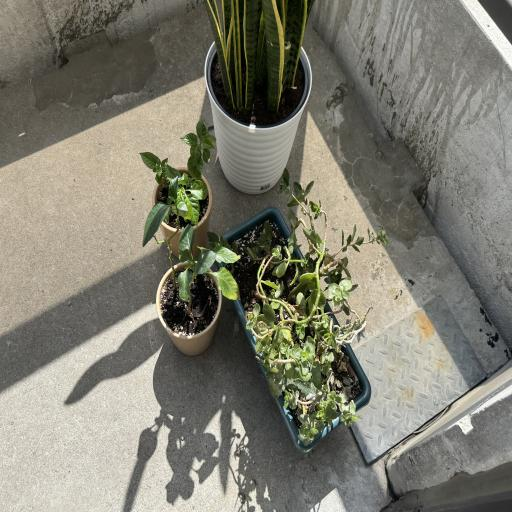Plant Pot: (205, 28, 312, 195), (156, 261, 222, 353), (150, 165, 212, 254)
